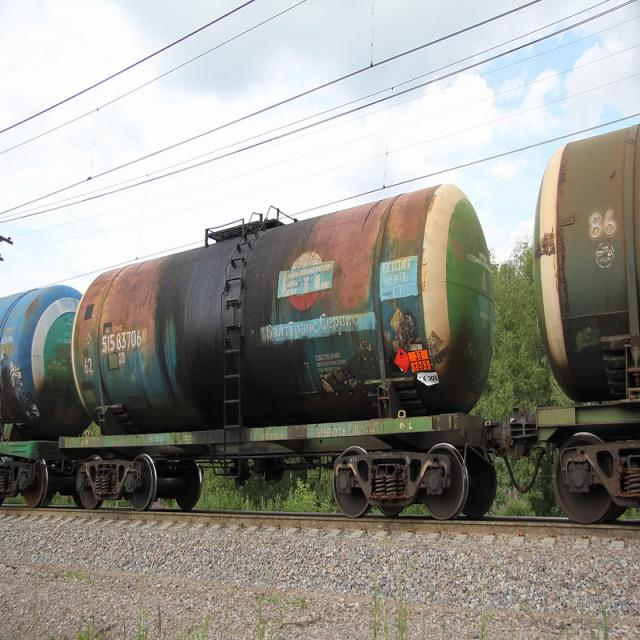tank: (63, 152, 506, 544), (518, 99, 640, 540), (0, 271, 86, 517)
